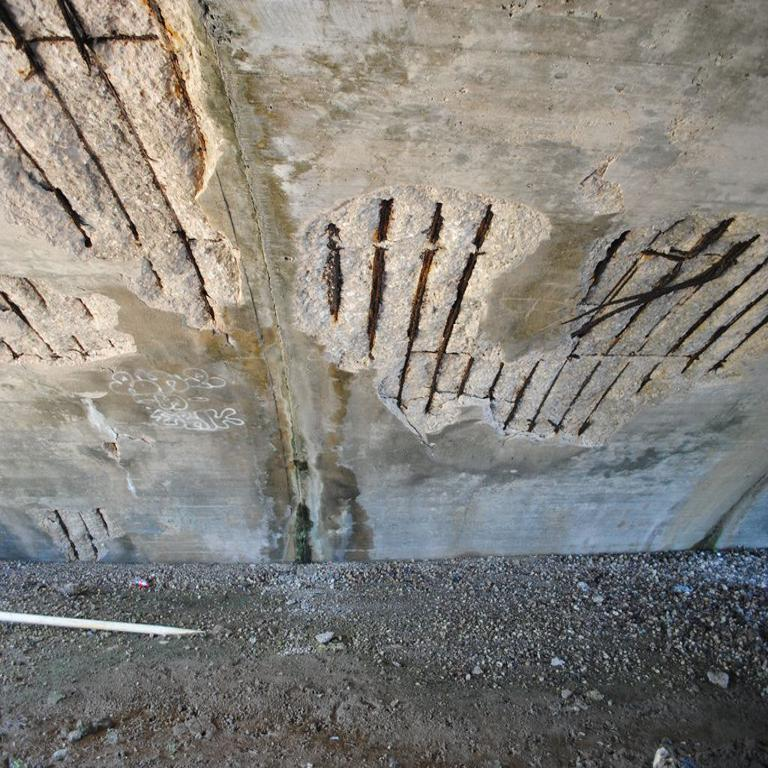exposed_rebar: (0, 0, 120, 203), (560, 238, 756, 337), (426, 204, 494, 412), (0, 118, 92, 247), (668, 256, 768, 353), (396, 202, 442, 407), (606, 261, 684, 356), (682, 290, 768, 371), (366, 198, 392, 358), (577, 362, 630, 437), (642, 218, 734, 261), (549, 359, 601, 433), (711, 310, 768, 370), (586, 231, 629, 293), (502, 362, 538, 430), (58, 0, 92, 71), (530, 364, 565, 431), (322, 224, 344, 320), (598, 258, 639, 305), (635, 311, 671, 353), (54, 510, 78, 560), (606, 267, 638, 303), (649, 219, 688, 243), (78, 512, 98, 556), (636, 361, 662, 393), (458, 357, 474, 395), (121, 204, 138, 239), (488, 363, 503, 400), (95, 508, 110, 533)
spalling: (297, 184, 768, 445), (0, 0, 243, 329), (0, 266, 134, 361), (42, 508, 122, 560)
